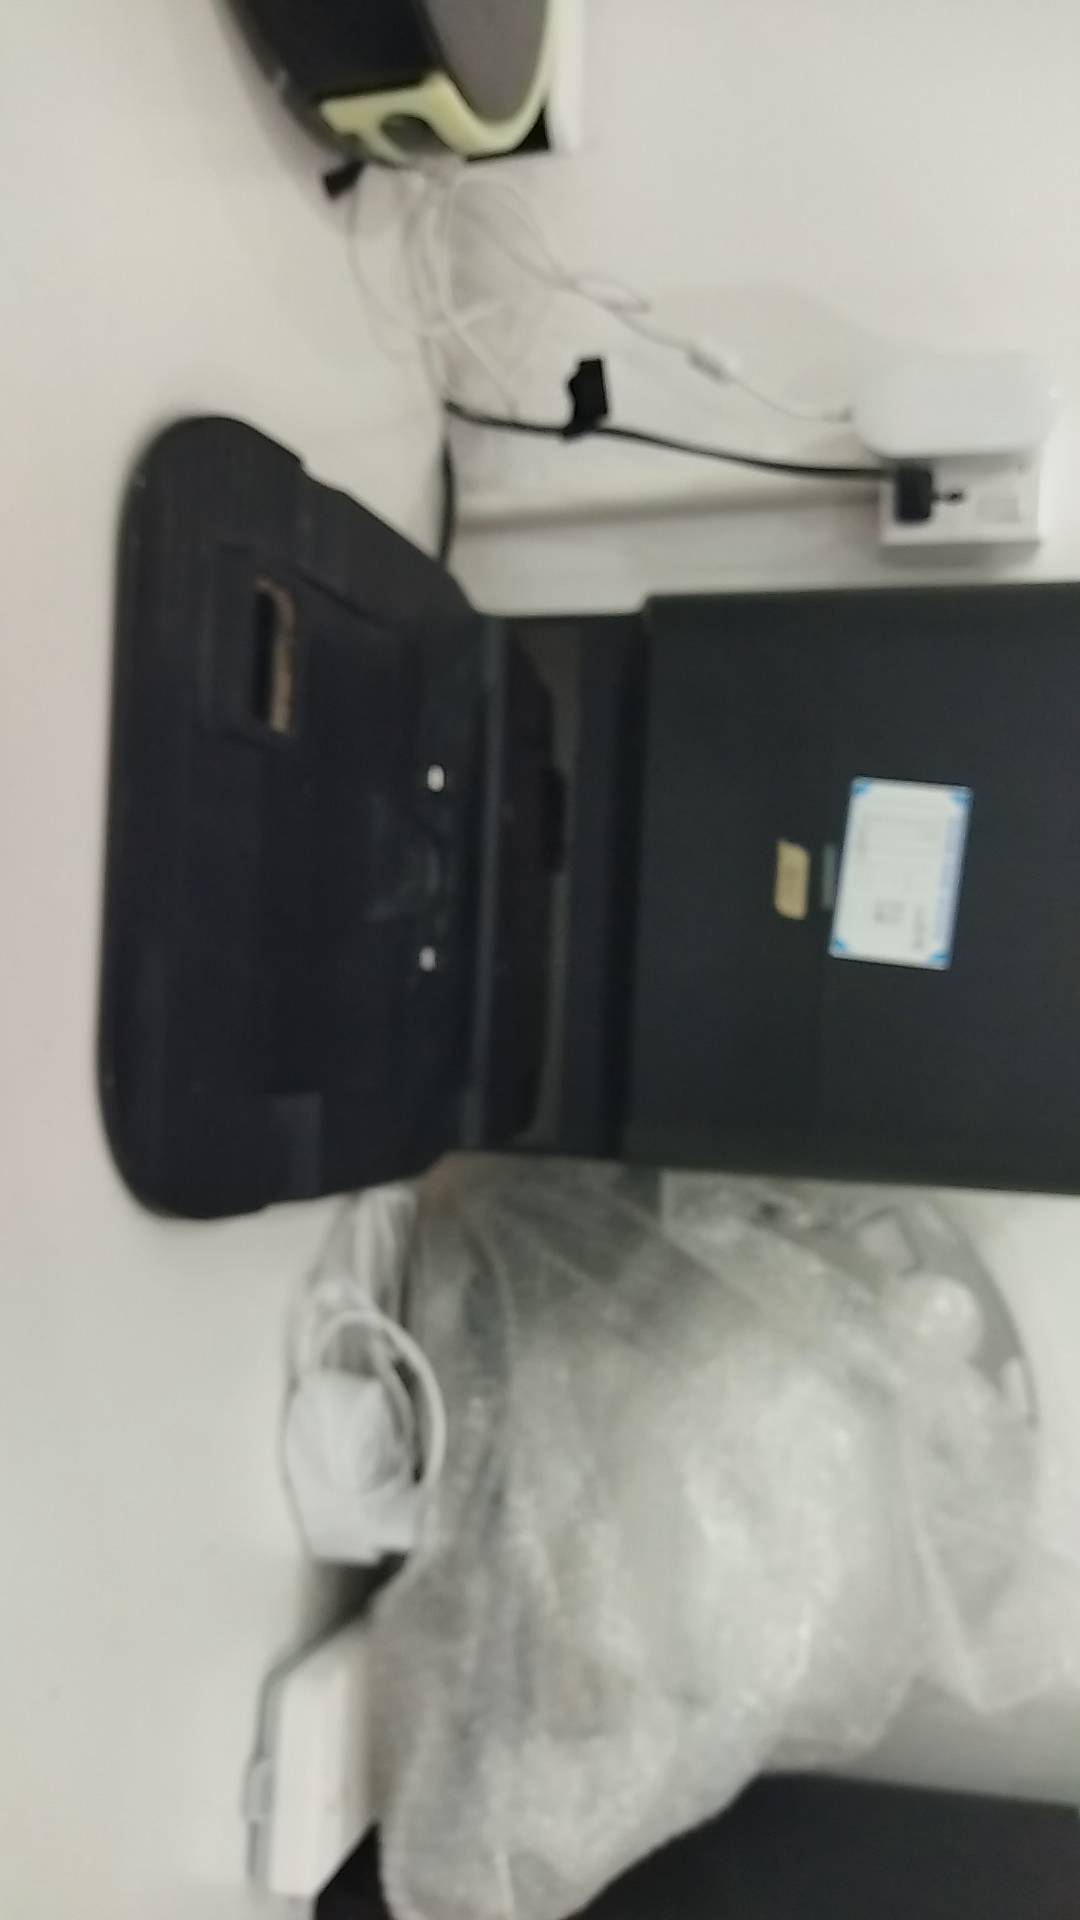dust collecting barrel: (102, 415, 1080, 1224)
